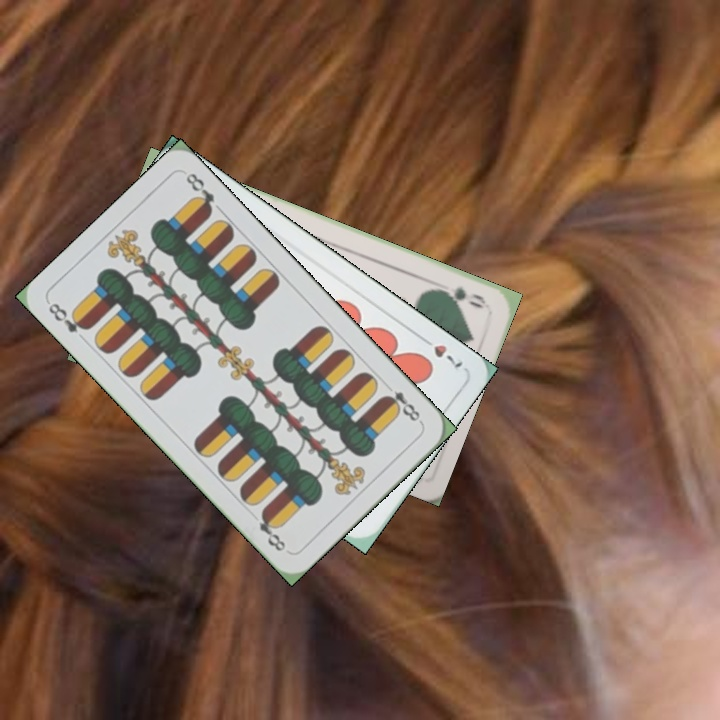E8: (379, 379, 425, 426), (44, 298, 93, 335)
GO: (433, 282, 488, 311)
H7: (415, 331, 466, 374)
